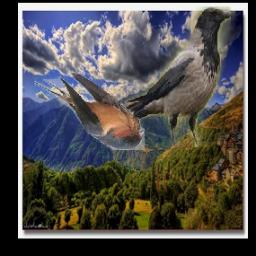Crow: (119, 7, 231, 148)
Swallow: (35, 73, 146, 150)
